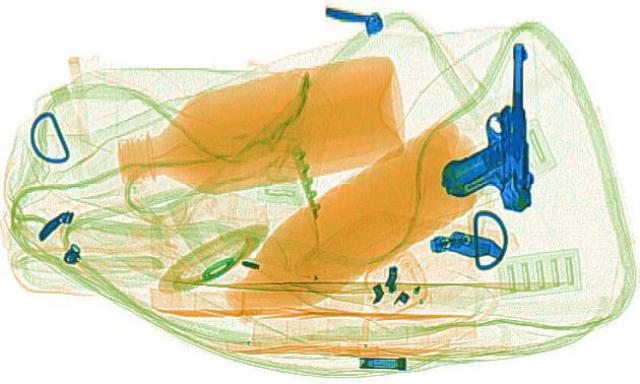Gun: (438, 42, 530, 210)
